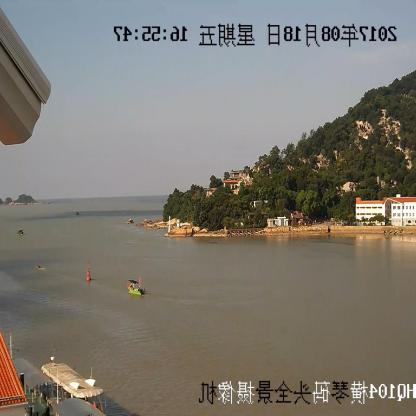Fishing Boat: (128, 279, 144, 295)
